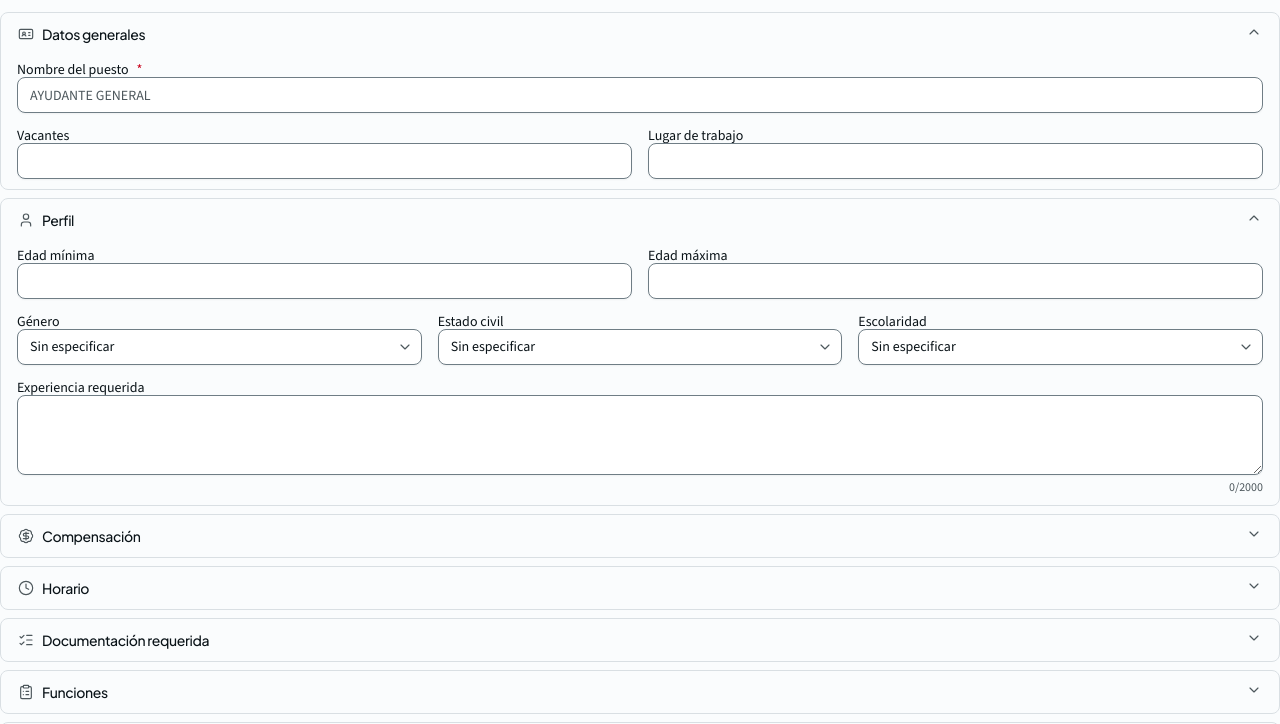
Test case: 011 — PositionForm › muestra contador de caracteres en la textarea de experiencia
Expected: the text "0/2000" is shown, [1229,479,1263,495]
In the text box labelled "Experiencia requerida": point(640, 435) [17,395,1263,475], type "abcde"
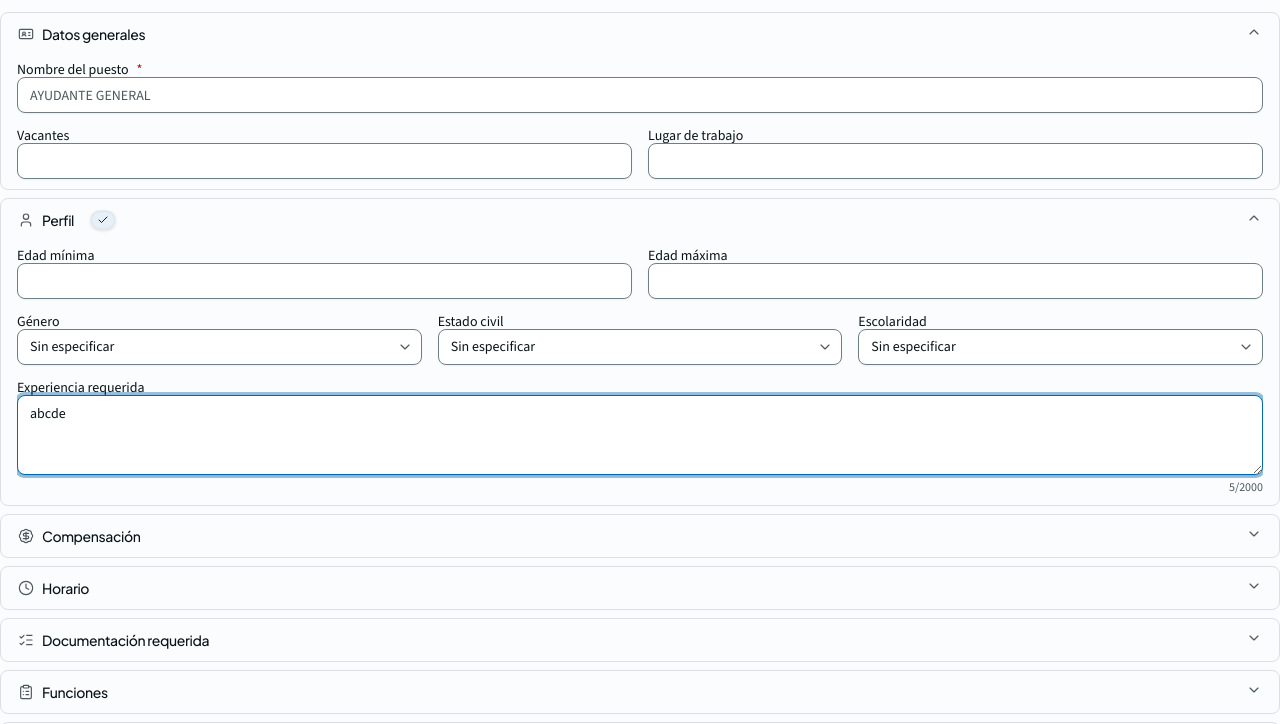
Expected: the text "5/2000" is shown, [1229,479,1263,495]
